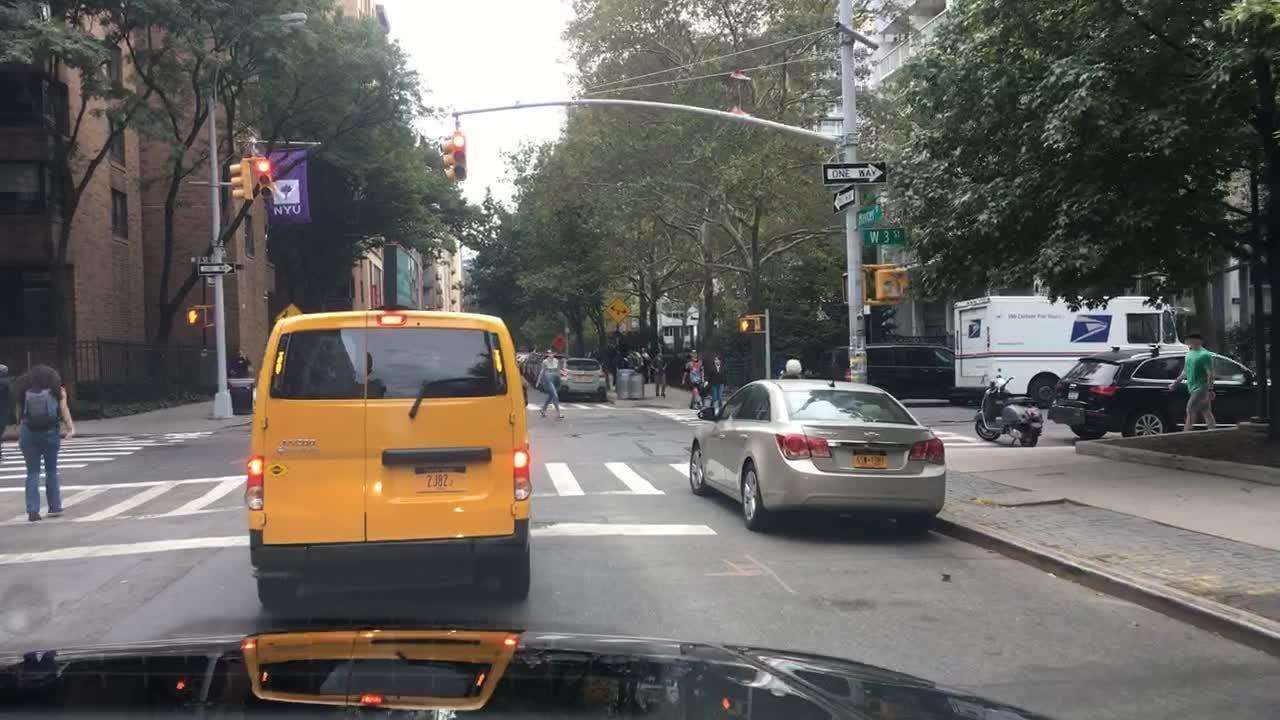chevrolet: (855, 424, 886, 442)
